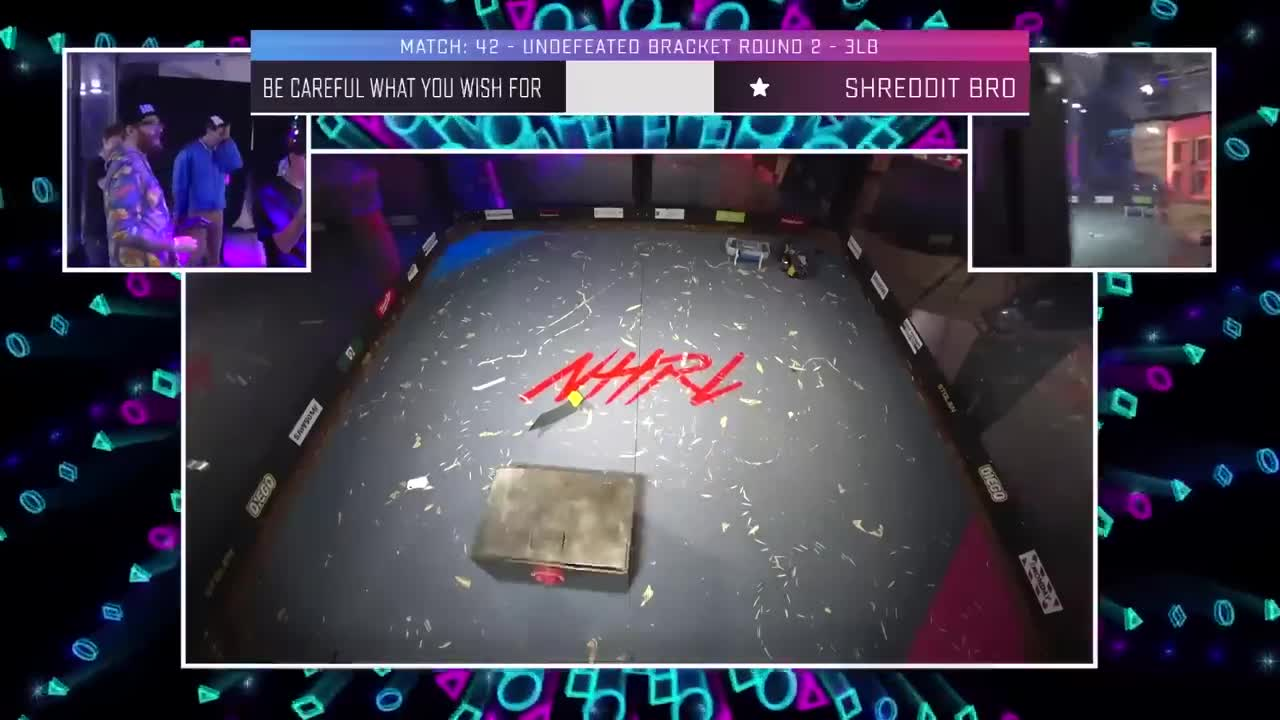combatbot: (723, 235, 776, 272), (779, 249, 814, 279)
debris: (521, 402, 587, 435)
housebot: (475, 464, 642, 590)
